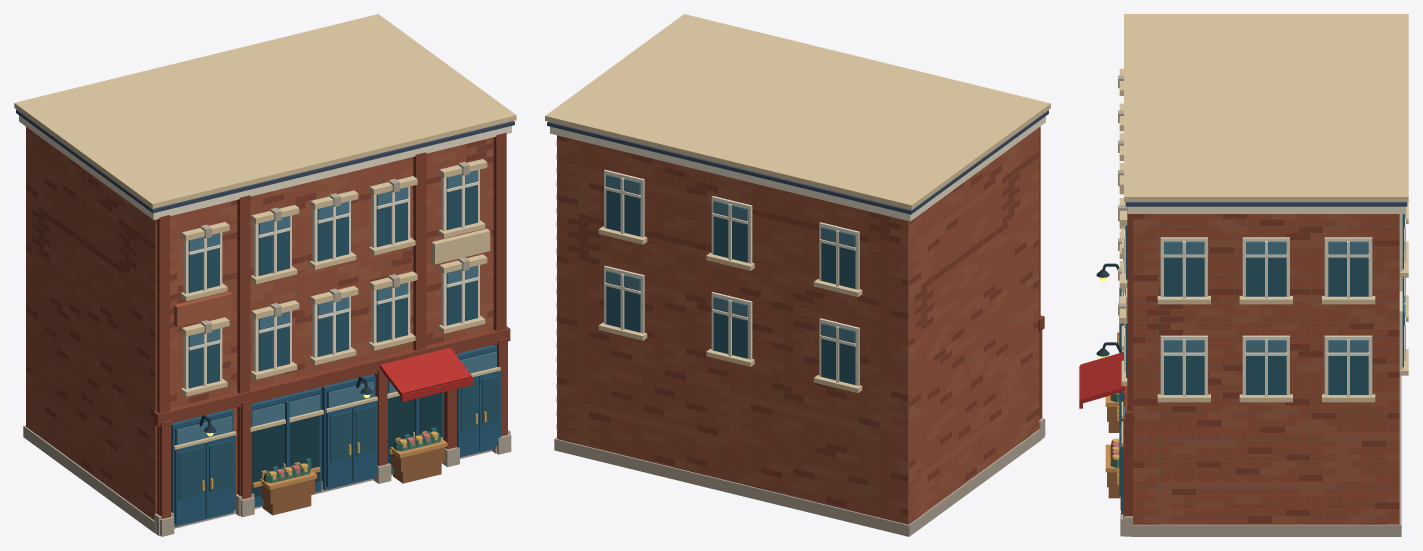
File: brick_mercantile.glb
3 views of the same model, side by side, from view 1: azimuth 30°, elevation 25°; view 2: azimuth 150°, elevation 25°; view 3: azimuth 270°, elevation 25° (orthographic). The views are drawn at different scales.
Parts seen in each view (by area): view 1: brick_mercantile; view 2: brick_mercantile; view 3: brick_mercantile.
Boxes of the visible parts, box(x1,y1,x2,y2) form: brick_mercantile: box(14, 14, 516, 536); brick_mercantile: box(545, 14, 1050, 536); brick_mercantile: box(1079, 14, 1408, 536).
Bounding box in the file's own units: 10.23 × 8.94 × 7.79.
